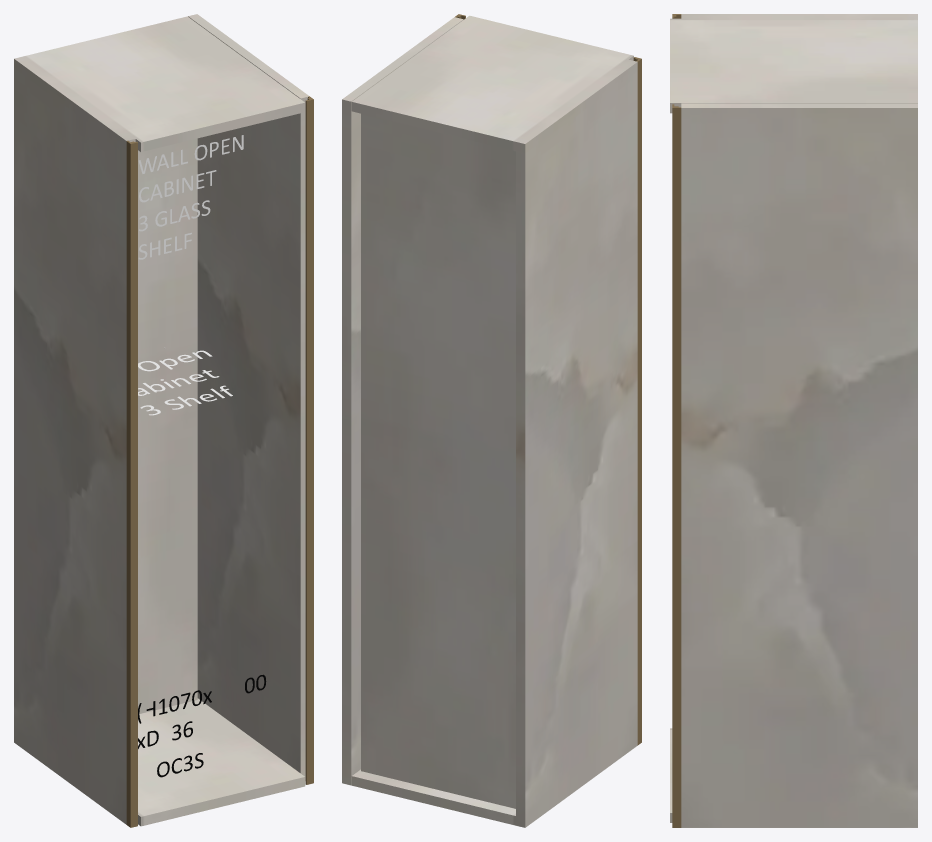
Rendered from WALL OPEN CABINET 3 GLASS SHELF (H1070xW300xD336) WOC3S.glb.
3 views of the same model, side by side, from view 1: azimuth 30°, elevation 25°; view 2: azimuth 150°, elevation 25°; view 3: azimuth 270°, elevation 25° (orthographic). The views are drawn at different scales.
Size of what is drawn, in the model's own units: 0.3 by 1.07 by 0.334.
Materials: 5 (1 with a texture image).
